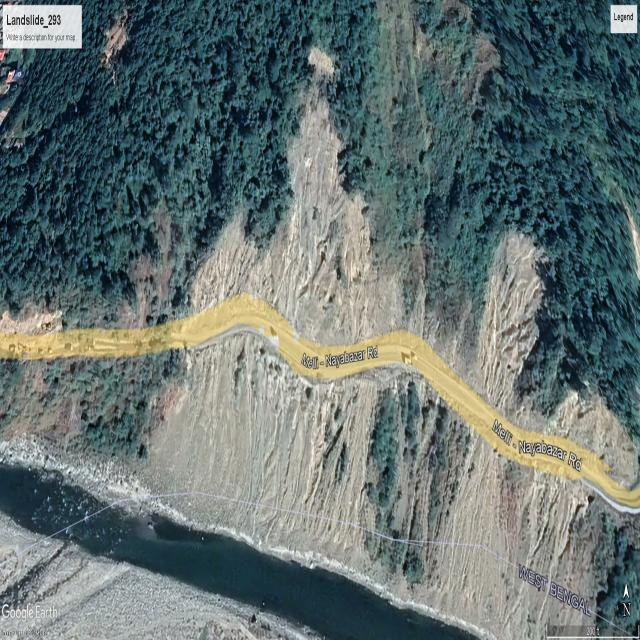Landslide: (163, 354, 314, 506), (289, 80, 373, 317), (487, 226, 545, 396), (200, 206, 288, 303)
